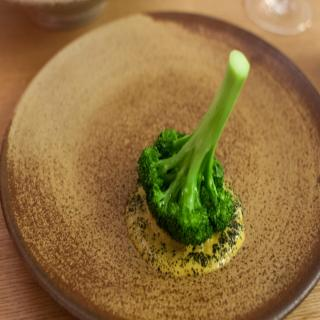Broccoli: (136, 50, 251, 246)
